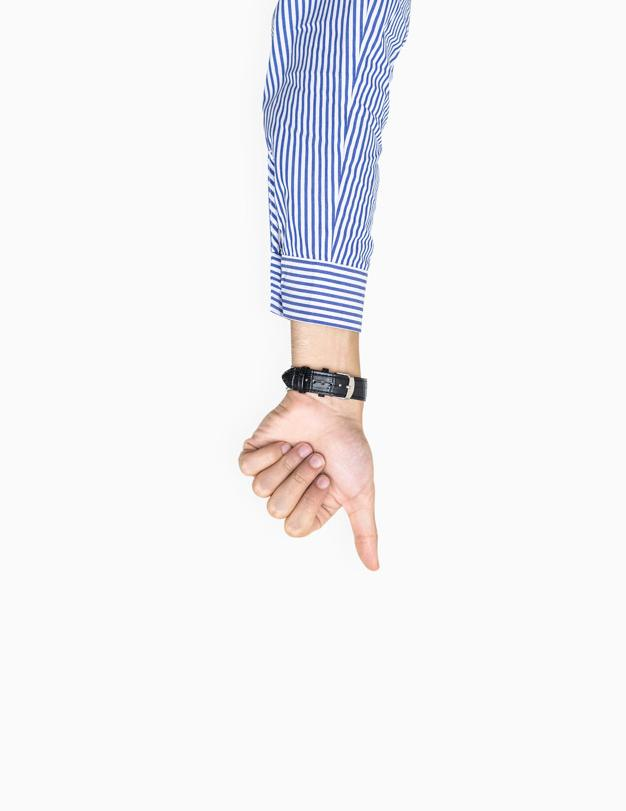thumbsdown: (239, 437, 379, 572)
